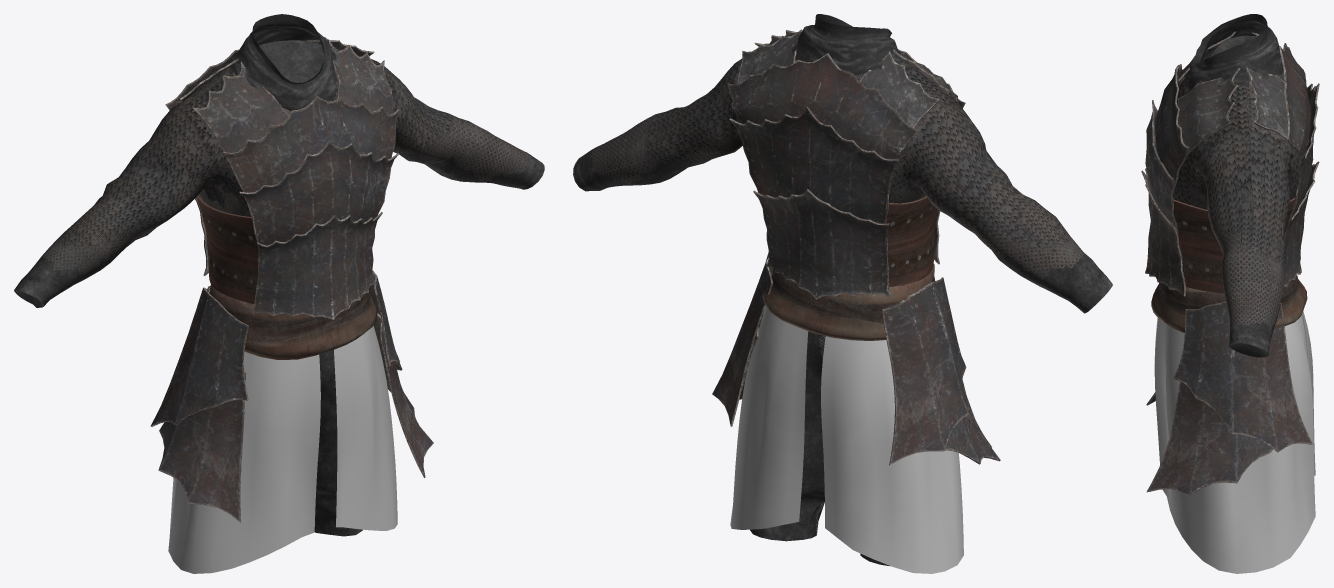
The model's file is sk_dg_uruk_chest_elite_f.fbx.
3 views of the same model, side by side, from view 1: azimuth 30°, elevation 25°; view 2: azimuth 150°, elevation 25°; view 3: azimuth 270°, elevation 25° (orthographic). The views are drawn at different scales.
Visible parts, largest first — view 1: sk_dg_uruk_chest_elite_f.2, sk_dg_uruk_chest_elite_f.1, sk_dg_uruk_chest_elite_f.skirt.0, sk_dg_uruk_chest_elite_f.skirt.1, sk_dg_uruk_chest_elite_f.0; view 2: sk_dg_uruk_chest_elite_f.2, sk_dg_uruk_chest_elite_f.skirt.0, sk_dg_uruk_chest_elite_f.1, sk_dg_uruk_chest_elite_f.skirt.1, sk_dg_uruk_chest_elite_f.0; view 3: sk_dg_uruk_chest_elite_f.1, sk_dg_uruk_chest_elite_f.2, sk_dg_uruk_chest_elite_f.skirt.1, sk_dg_uruk_chest_elite_f.skirt.0, sk_dg_uruk_chest_elite_f.0.
Part boxes in pixels (bbox=[...]): sk_dg_uruk_chest_elite_f.2: bbox=[165, 36, 399, 319]; sk_dg_uruk_chest_elite_f.1: bbox=[14, 40, 544, 359]; sk_dg_uruk_chest_elite_f.skirt.0: bbox=[168, 325, 397, 573]; sk_dg_uruk_chest_elite_f.skirt.1: bbox=[150, 270, 433, 522]; sk_dg_uruk_chest_elite_f.0: bbox=[228, 14, 362, 536]; sk_dg_uruk_chest_elite_f.2: bbox=[727, 27, 965, 299]; sk_dg_uruk_chest_elite_f.skirt.0: bbox=[730, 306, 963, 573]; sk_dg_uruk_chest_elite_f.1: bbox=[573, 58, 1112, 340]; sk_dg_uruk_chest_elite_f.skirt.1: bbox=[712, 252, 1000, 465]; sk_dg_uruk_chest_elite_f.0: bbox=[750, 14, 904, 566]; sk_dg_uruk_chest_elite_f.1: bbox=[1151, 35, 1307, 357]; sk_dg_uruk_chest_elite_f.2: bbox=[1141, 31, 1319, 296]; sk_dg_uruk_chest_elite_f.skirt.1: bbox=[1146, 301, 1313, 496]; sk_dg_uruk_chest_elite_f.skirt.0: bbox=[1154, 311, 1315, 573]; sk_dg_uruk_chest_elite_f.0: bbox=[1187, 14, 1283, 91].
Size of the model in its own units: 1.35 by 0.4119 by 1.28.
